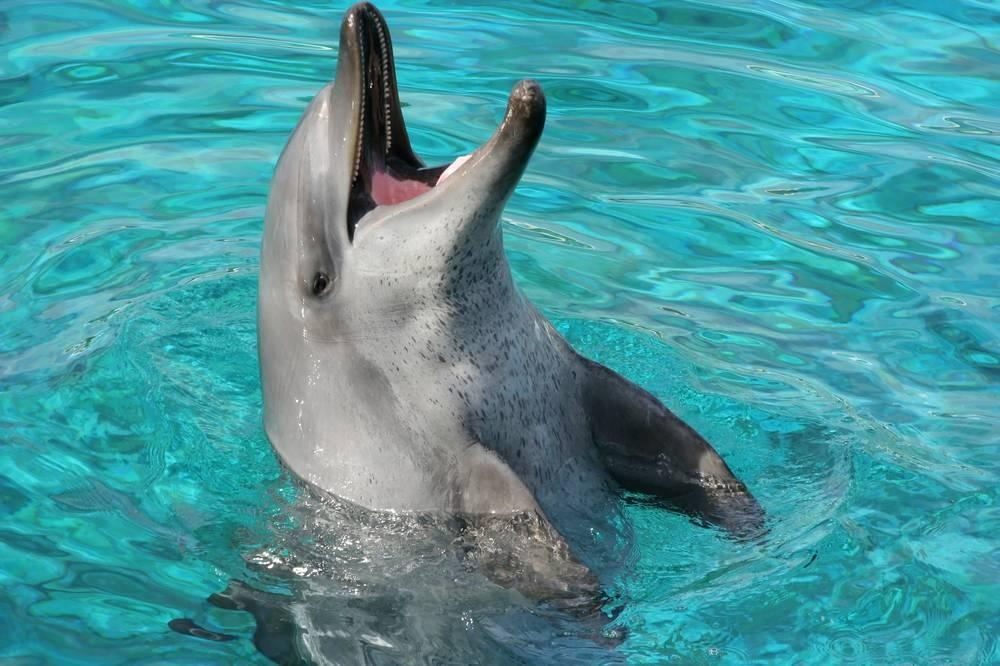fish: (258, 2, 779, 642)
